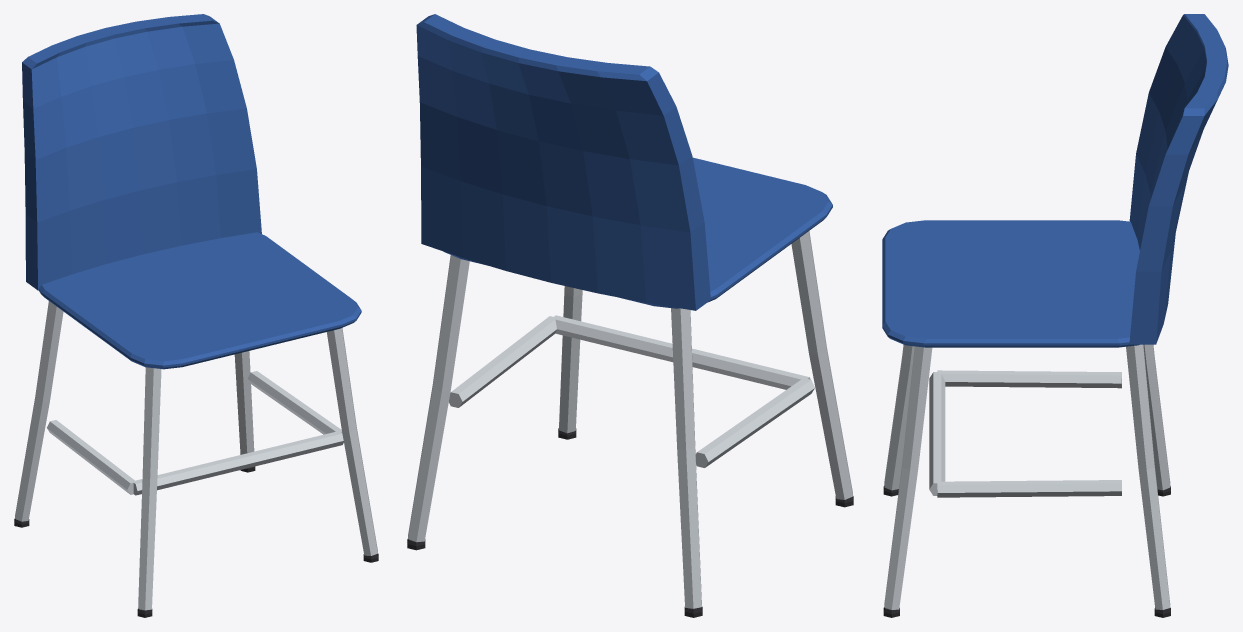
The model's file is FN_Chair_Stacking.glb.
3 views of the same model, side by side, from view 1: azimuth 30°, elevation 25°; view 2: azimuth 150°, elevation 25°; view 3: azimuth 270°, elevation 25° (orthographic). The views are drawn at different scales.
Visible parts, largest first — view 1: FN_Chair_Stacking; view 2: FN_Chair_Stacking; view 3: FN_Chair_Stacking.
Part boxes in pixels (x1,y1,x2,y2): FN_Chair_Stacking: [14, 14, 378, 617]; FN_Chair_Stacking: [407, 14, 853, 617]; FN_Chair_Stacking: [882, 14, 1228, 617].
Size of the model in its own units: 0.456 by 0.809 by 0.516.
1 material, 1 textured.
